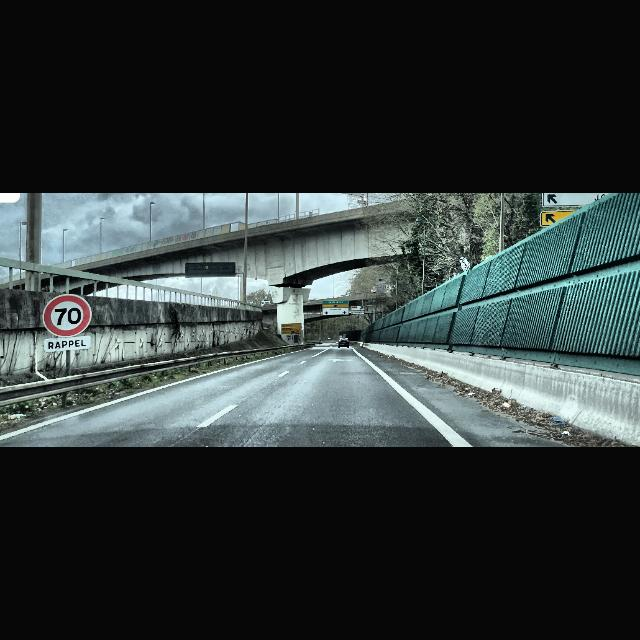speed_70: (42, 294, 94, 338)
